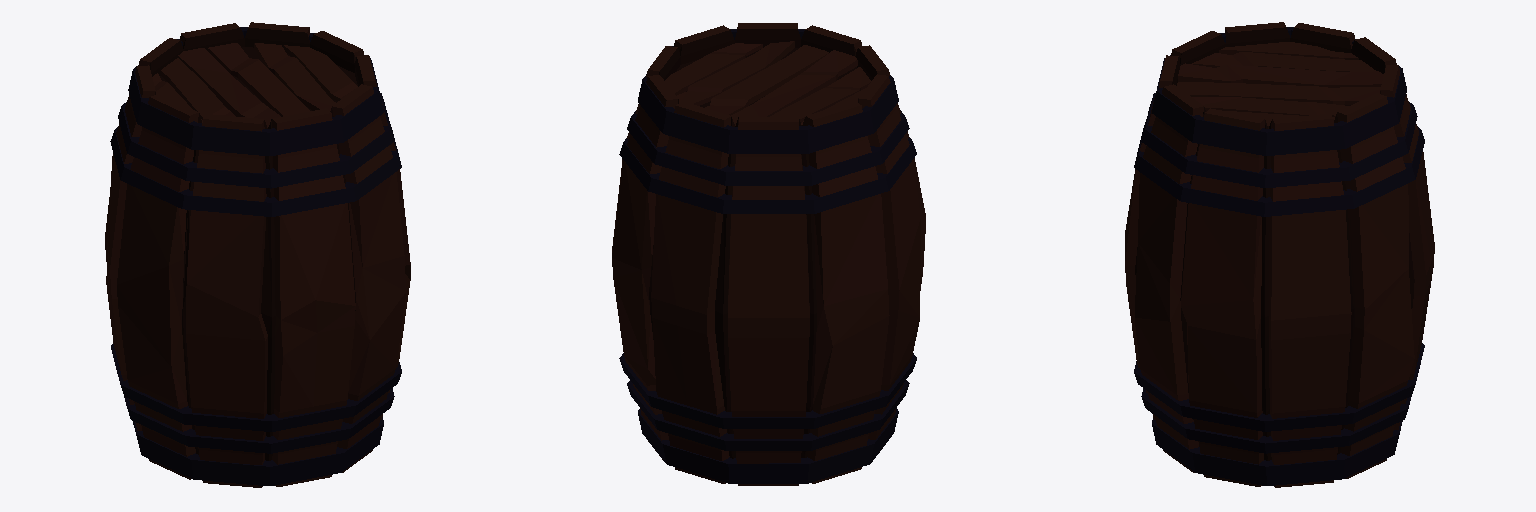
File: Barrel.obj
The picture shows the model from 3 angles: view 1: azimuth 30°, elevation 25°; view 2: azimuth 150°, elevation 25°; view 3: azimuth 270°, elevation 25°; orthographic projection.
Parts seen in each view (by area): view 1: Barrel; view 2: Barrel; view 3: Barrel.
Part boxes in pixels (left/top/right/bottom): Barrel: left=105, top=22, right=410, bottom=487; Barrel: left=612, top=23, right=925, bottom=485; Barrel: left=1125, top=22, right=1434, bottom=487.
Bounding box in the file's own units: 1.04 × 1.35 × 1.03.